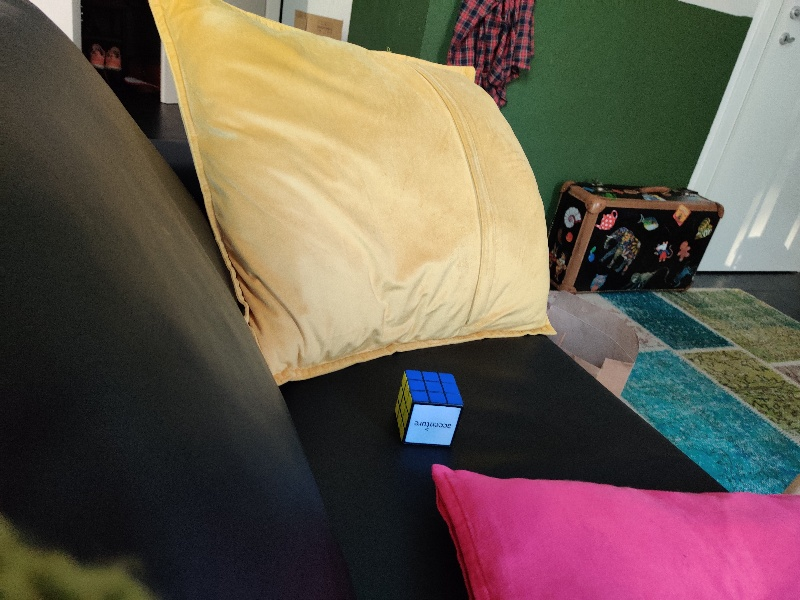rubik: (393, 370, 463, 445)
